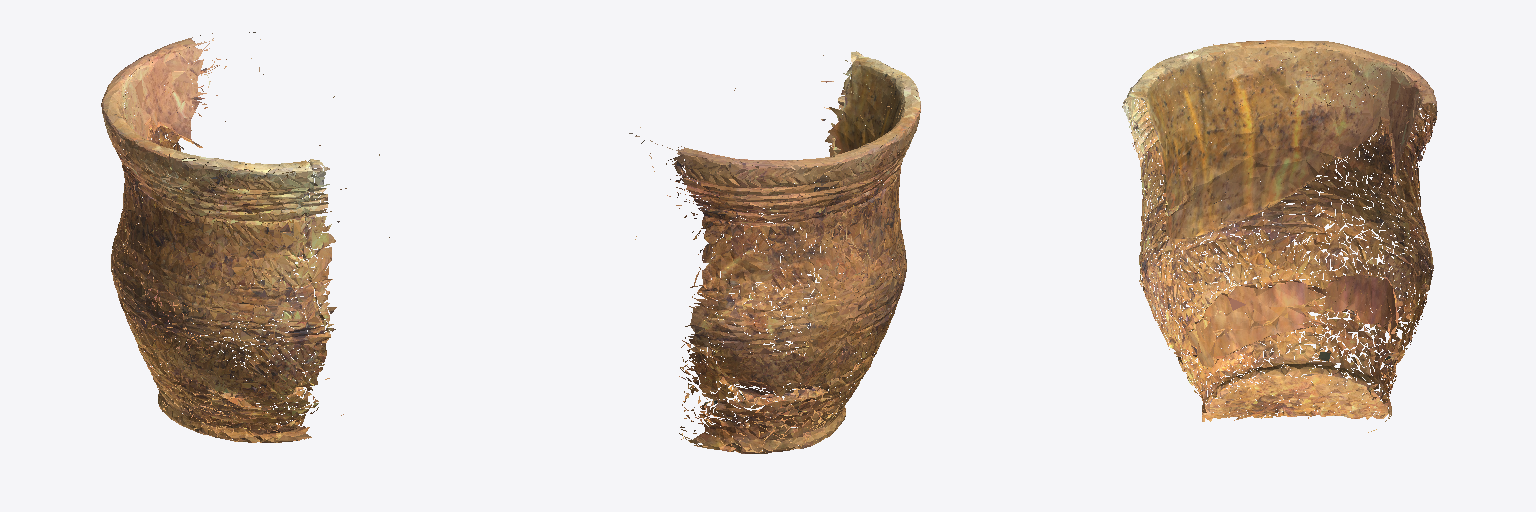
The picture shows the model from 3 angles: view 1: azimuth 30°, elevation 25°; view 2: azimuth 150°, elevation 25°; view 3: azimuth 270°, elevation 25°; orthographic projection.
Visible parts, largest first — view 1: _09:Mesh.002; view 2: _09:Mesh.002; view 3: _09:Mesh.002.
Part boxes in pixels (left/top/right/bottom): _09:Mesh.002: left=101, top=32, right=389, bottom=442; _09:Mesh.002: left=629, top=51, right=920, bottom=453; _09:Mesh.002: left=1122, top=40, right=1437, bottom=432.
Bounding box in the file's own units: 14.9 × 17.12 × 15.36.
16 materials, 16 textured.